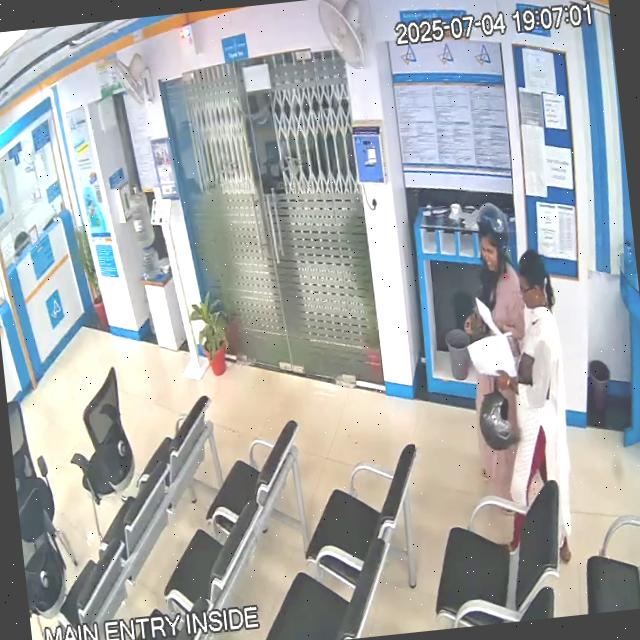helmet: (476, 203, 507, 271)
no_helmet: (518, 248, 553, 308)
